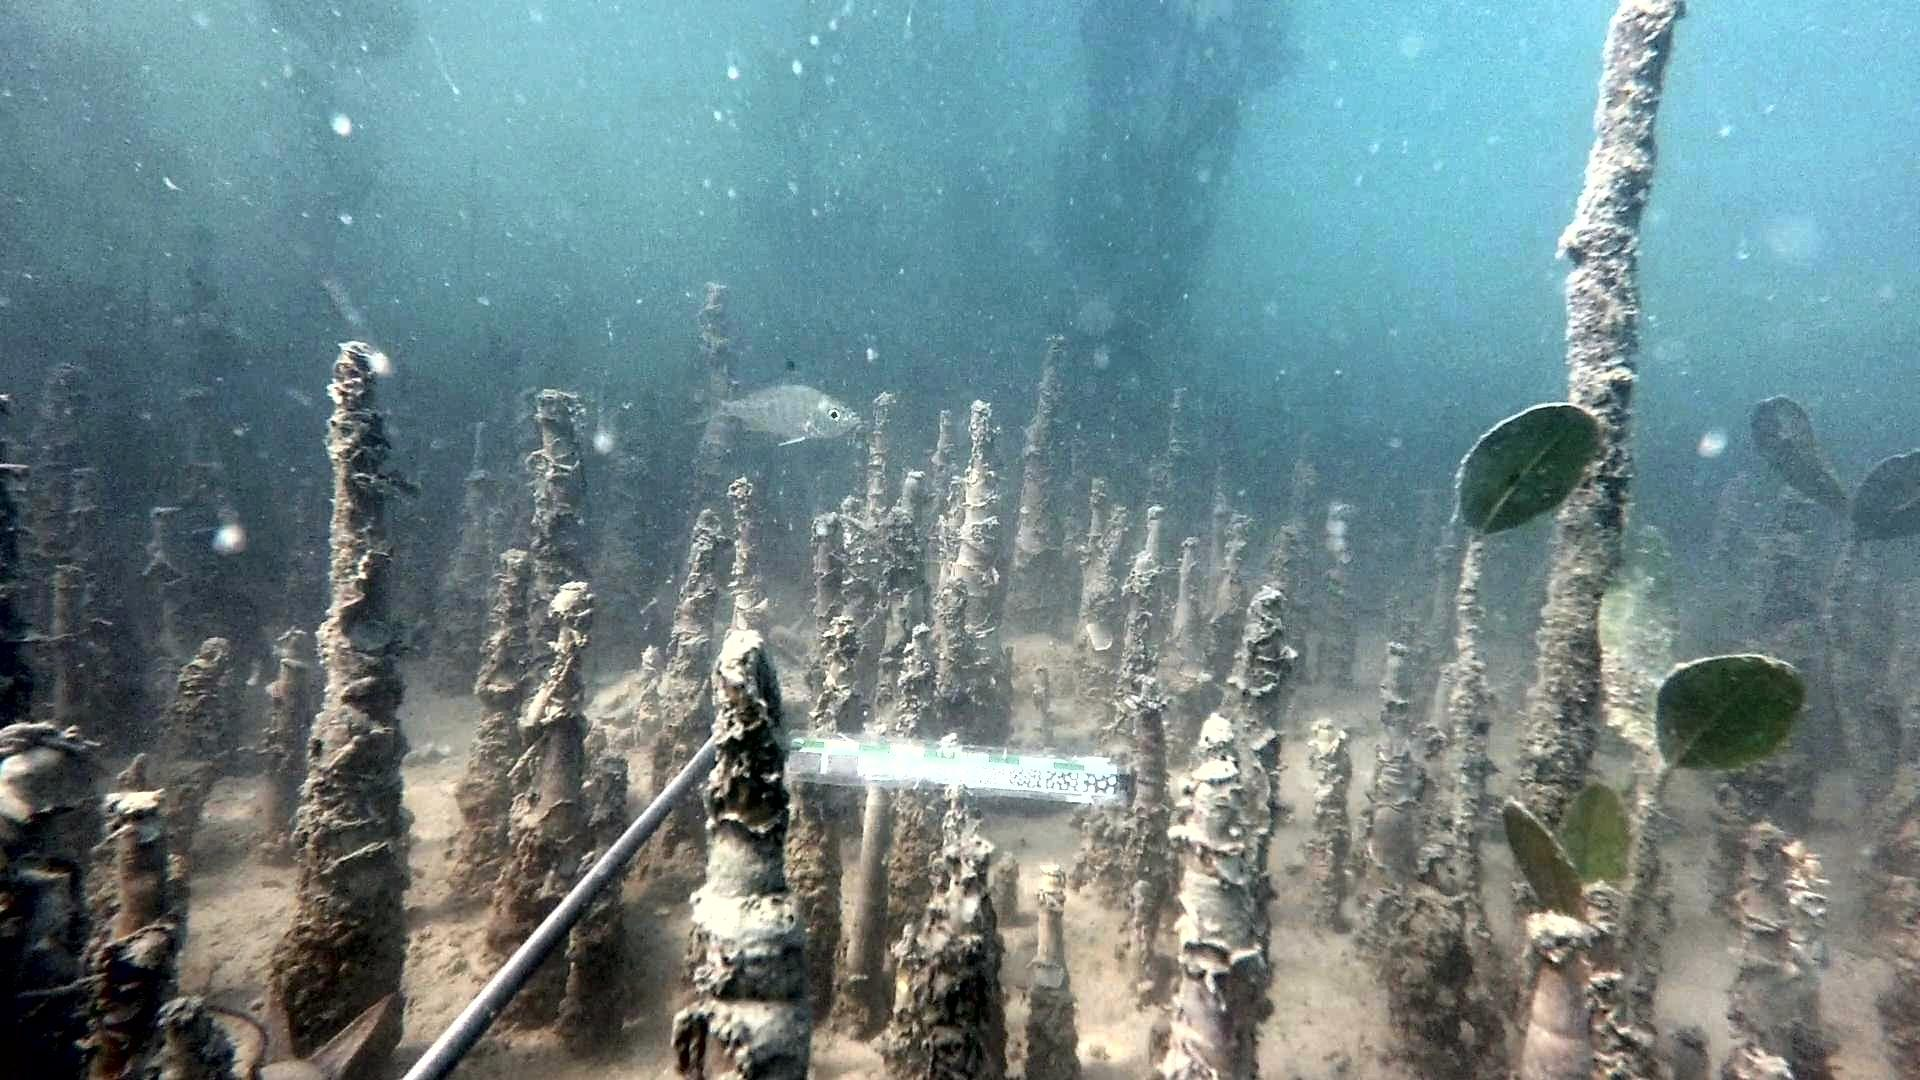gerres: (686, 360, 864, 447)
